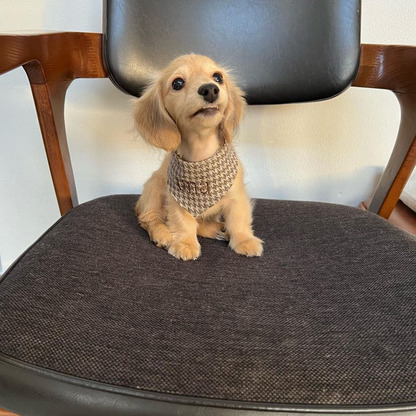dachshund: (126, 43, 273, 269)
